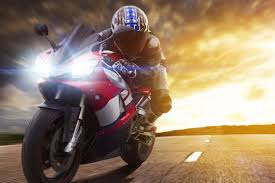motorcycle: (15, 20, 156, 183)
